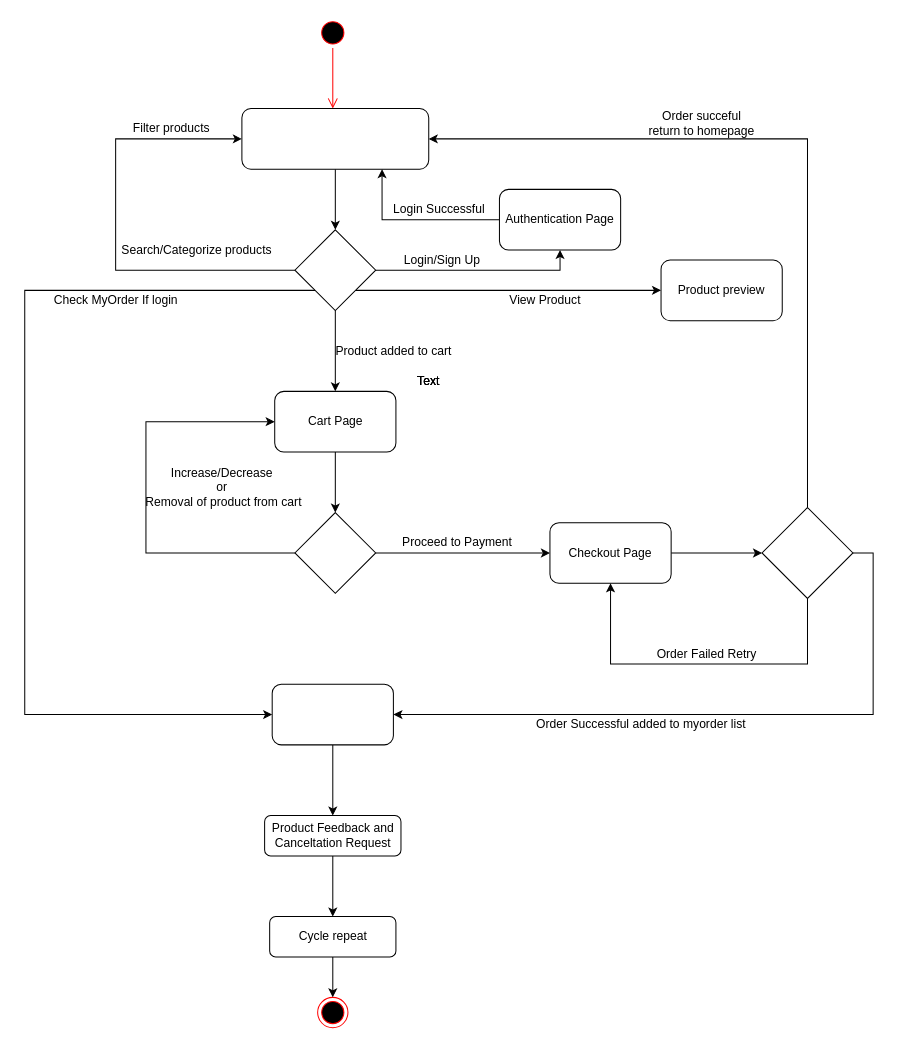
Image size: 899x1045. Some labels were removed from this diagram. The shapes that lost their labels are listed below. From the top down, each one's centre as x and y in pixels, then its label:
point 335,138: Home page
point 807,552: Order Successful ?
point 332,714: MyOrder
